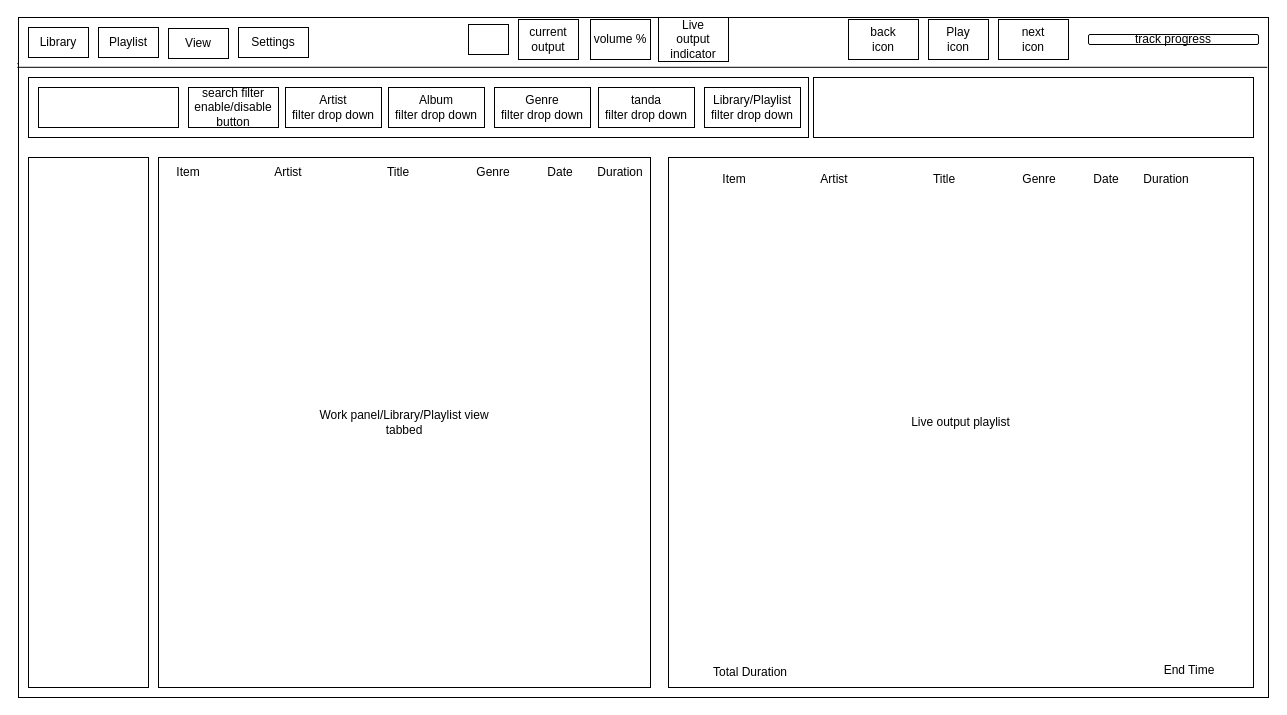
The diagram is 1287 pixels wide and 715 high, and some of its shapes have lost their labels. Here are the shapes that lost their labels. From the top down, the centre of each, then its label:
At point (488, 39): "output icon".
At point (108, 107): "search box".
At point (1033, 107): "Now playing shows: Track Title Artist".
At point (88, 422): "Playlists".
